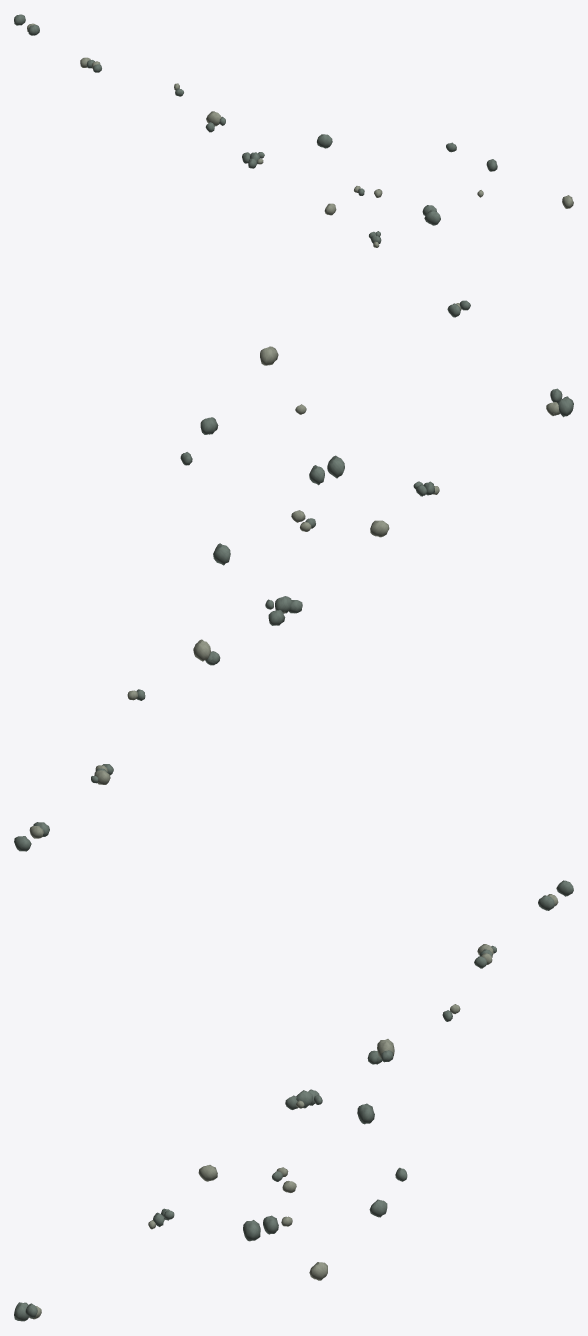
Rendered from rocks.glb.
3 renders of one model, top to bottom at view 1: azimuth 30°, elevation 25°; view 2: azimuth 150°, elevation 25°; view 3: azimuth 330°, elevation 25°, orthographic. The views are drawn at different scales.
Parts seen in each view (by area): view 1: Solid_Ref_RockDark, Solid_Ref_Rock; view 2: Solid_Ref_RockDark, Solid_Ref_Rock; view 3: Solid_Ref_RockDark, Solid_Ref_Rock.
Boxes of the visible parts, x1,y1,x2,y2 form: Solid_Ref_RockDark: (14,14,497,317); Solid_Ref_Rock: (27,23,573,310); Solid_Ref_RockDark: (14,388,573,851); Solid_Ref_Rock: (29,346,559,838); Solid_Ref_RockDark: (14,880,573,1321); Solid_Ref_Rock: (29,894,558,1319).
Bounding box in the file's own units: 25 × 5.97 × 91.76.
2 materials, 2 textured.
